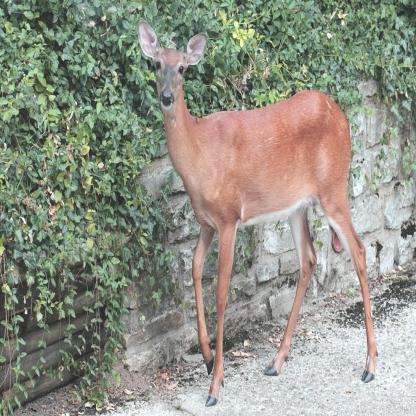Deer: (140, 18, 379, 408)
